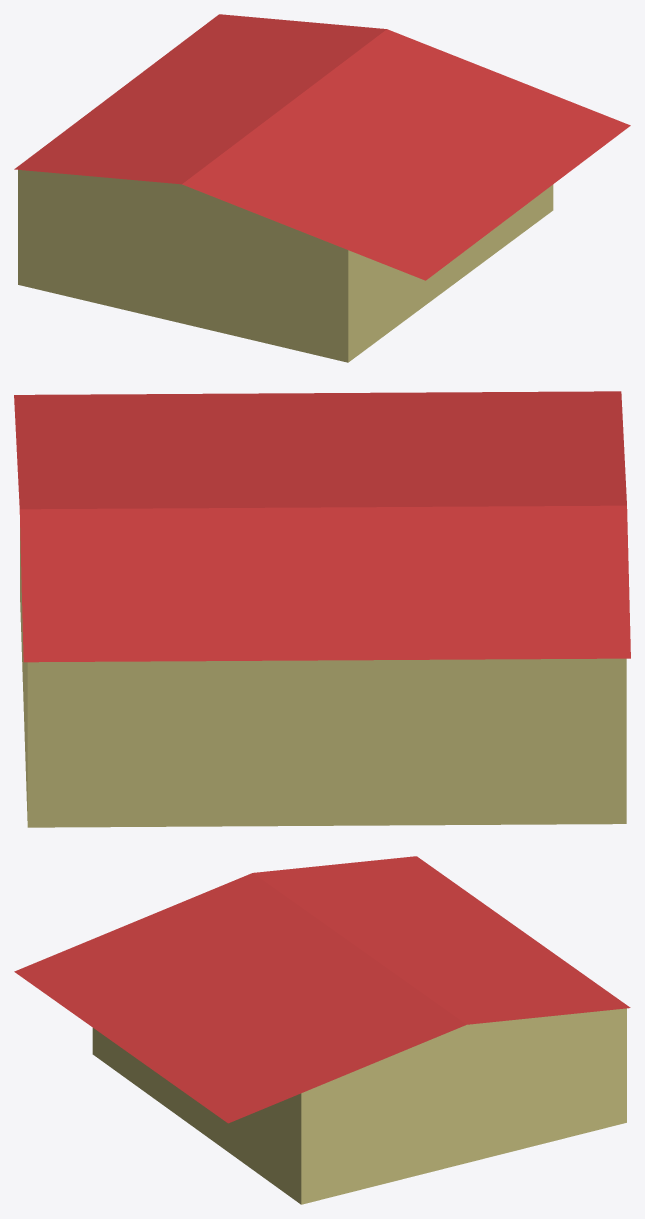
3 views of the same model, one above another, from view 1: azimuth 30°, elevation 25°; view 2: azimuth 150°, elevation 25°; view 3: azimuth 270°, elevation 25° (orthographic). The views are drawn at different scales.
Size of the model in its own units: 52.48 by 54.02 by 13.49.
